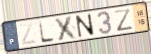3: (96, 10, 113, 36)
L: (38, 19, 56, 44)
N: (75, 13, 97, 39)
X: (53, 14, 79, 42)
Z: (17, 21, 39, 47), (113, 8, 135, 33)
